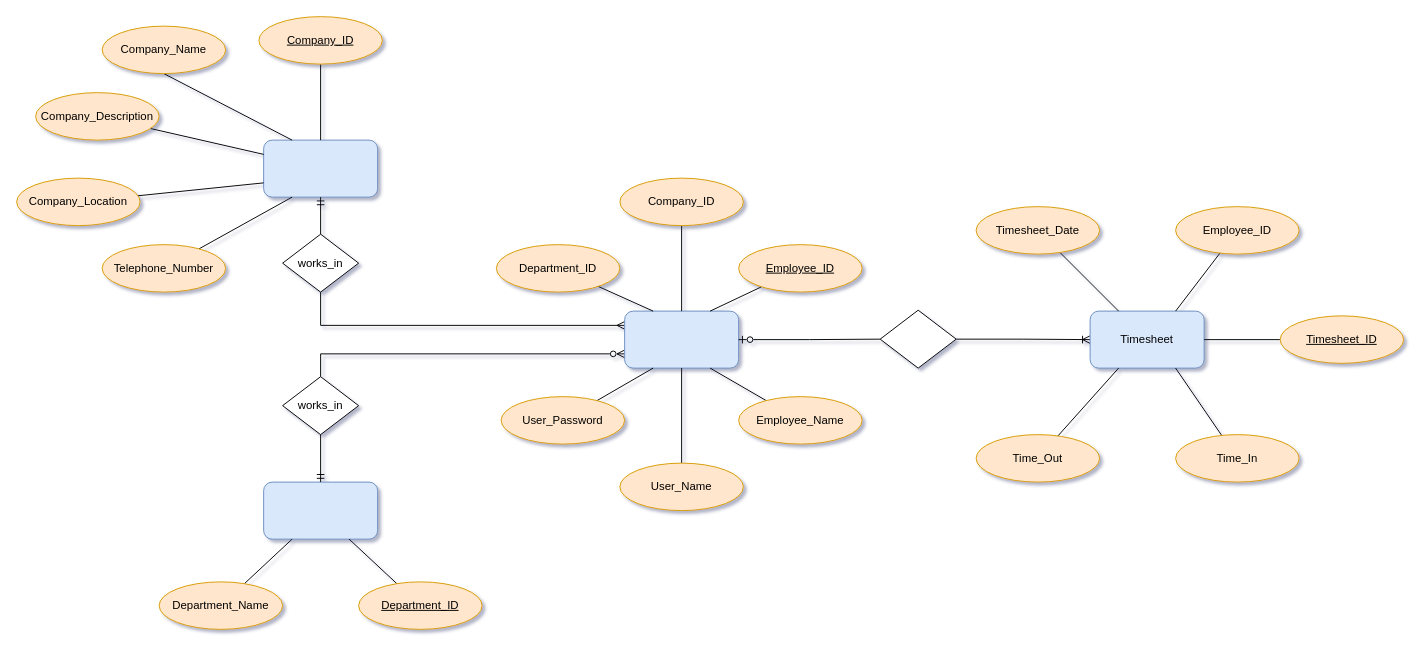
The diagram is 1426 pixels wide and 652 high, and some of its shapes have lost their labels. The box of each missing label's shape, as (x1, y1, x2, y2) in pixels:
Company: (263, 139, 378, 197)
Department: (263, 481, 378, 539)
Employee: (624, 310, 739, 368)
has: (879, 309, 956, 368)
